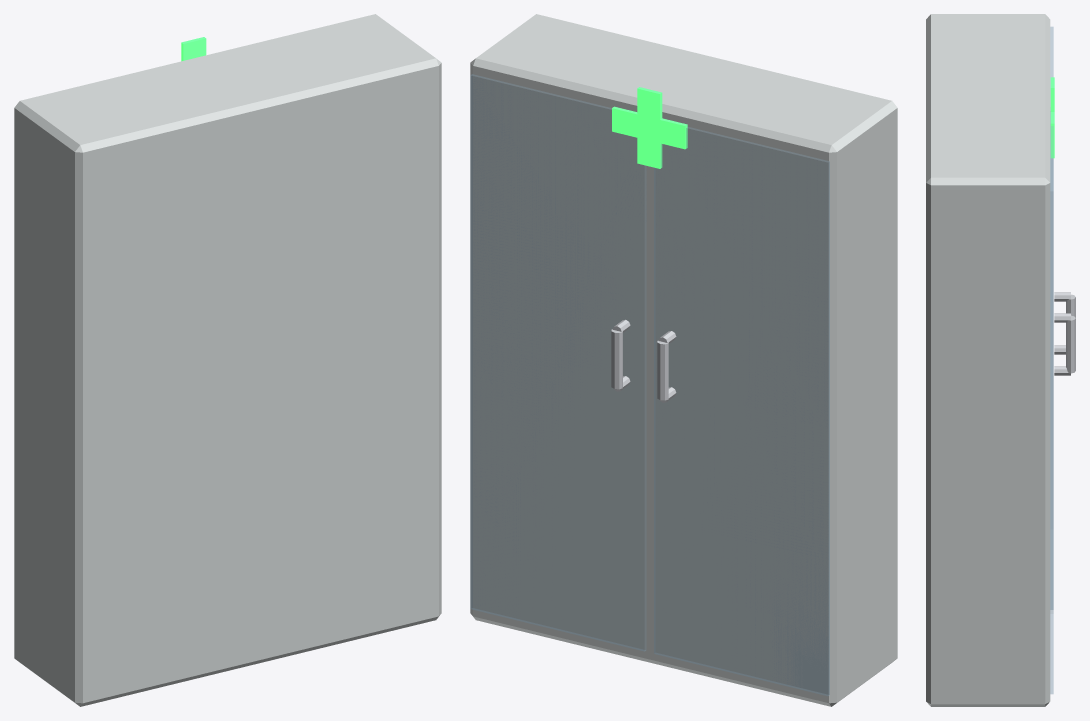
Rendered from medicine_cabinet.glb.
The picture shows the model from 3 angles, left to right: view 1: azimuth 30°, elevation 25°; view 2: azimuth 150°, elevation 25°; view 3: azimuth 270°, elevation 25°; orthographic projection. The views are drawn at different scales.
Visible parts, largest first — view 1: medicine_cabinet; view 2: medicine_cabinet; view 3: medicine_cabinet.
Part boxes in pixels (<box>): medicine_cabinet: <box>14,14,441,706</box>; medicine_cabinet: <box>470,14,897,706</box>; medicine_cabinet: <box>926,14,1075,706</box>.
Size of the model in its own units: 0.8 by 1.2 by 0.3.
